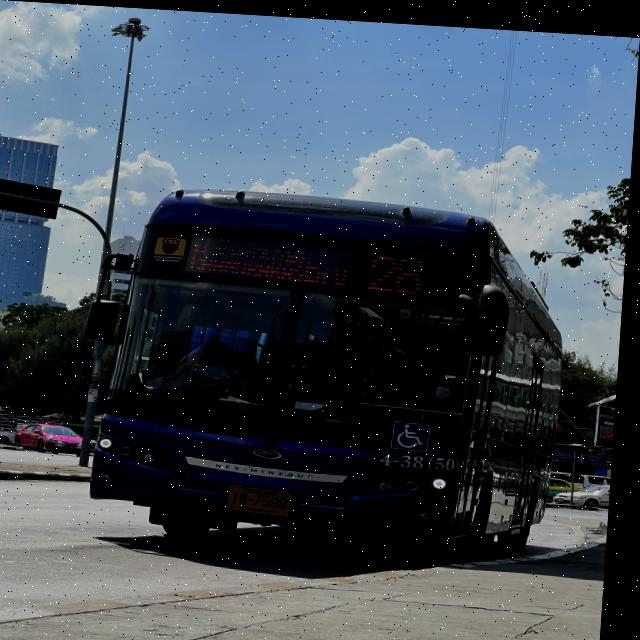Bus-Line-Number: (364, 240, 436, 296)
Destination-Sign-Normal: (186, 225, 360, 294)
TSB-Bus: (84, 181, 577, 562)
